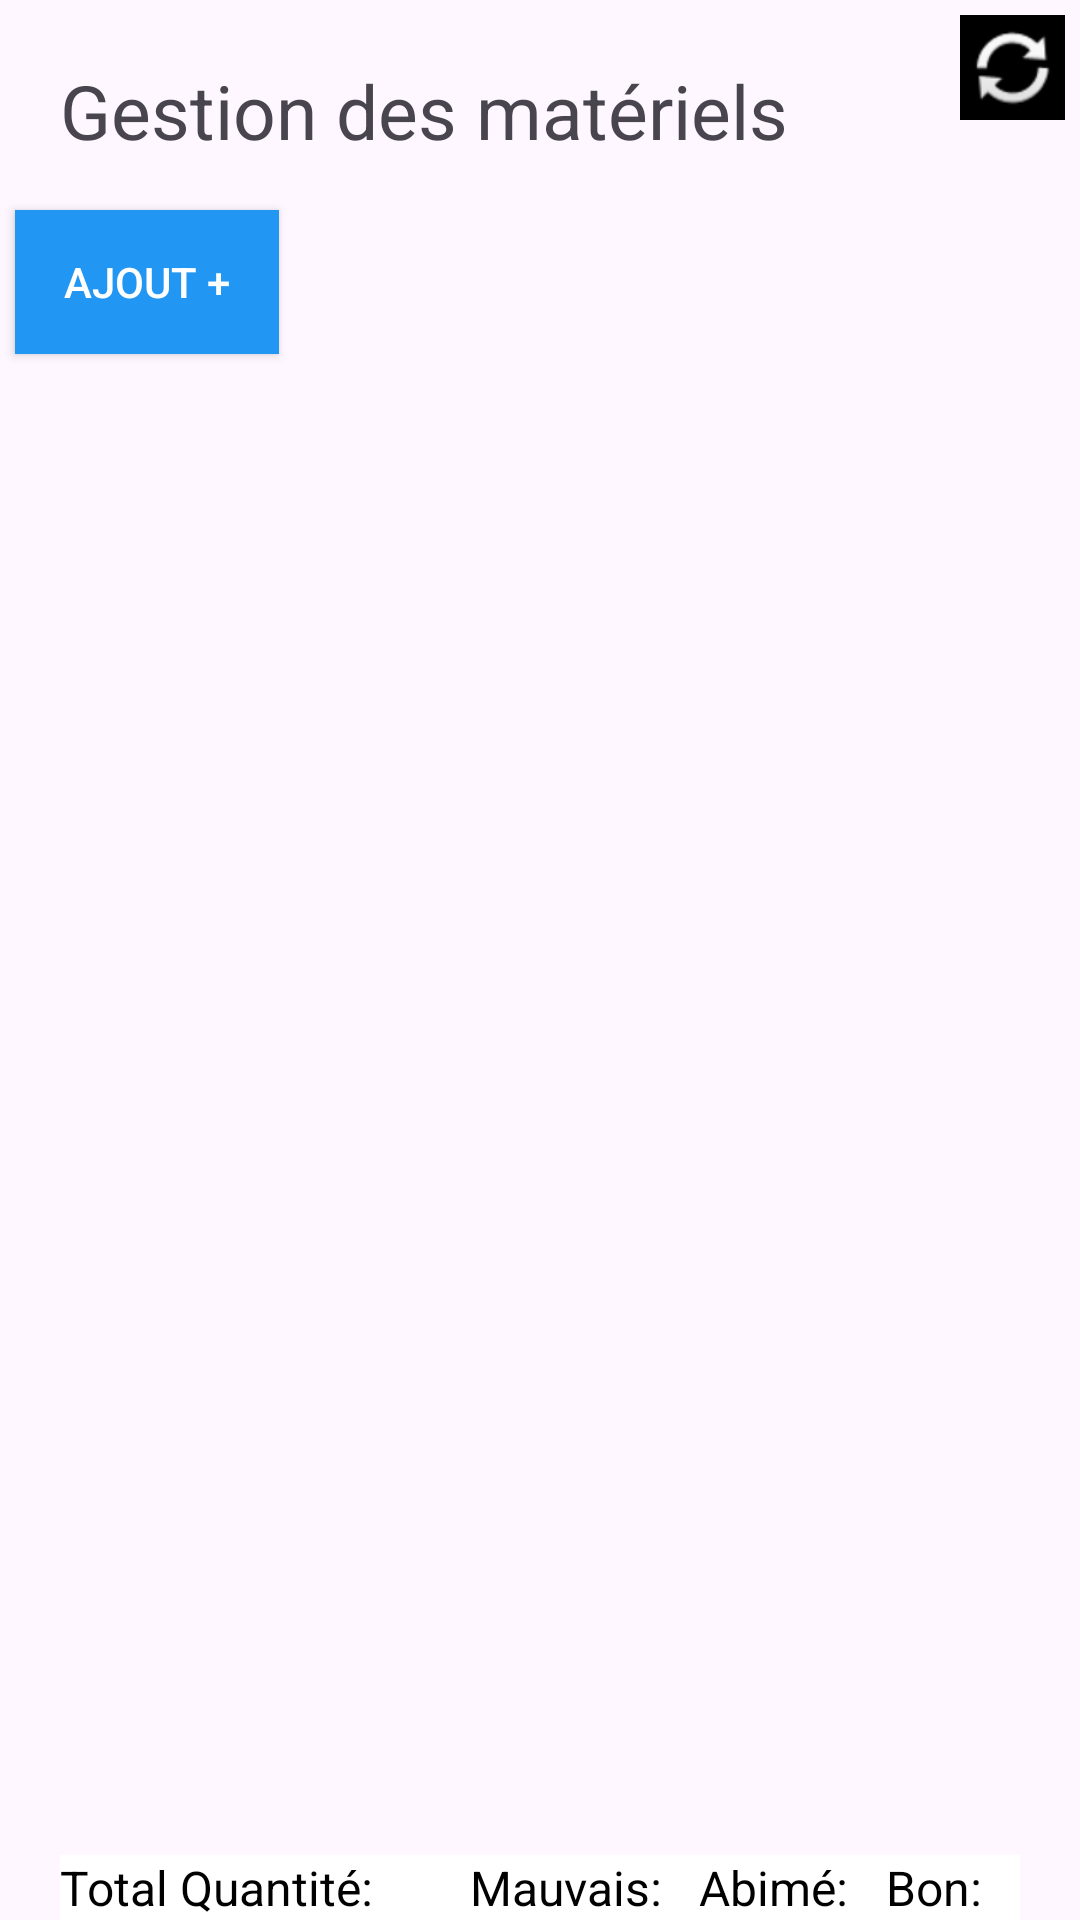

Icon click points for this 1080 × 1920 phone screenshot, format (x=x, y=y):
popup sync: (x=1012, y=67)
